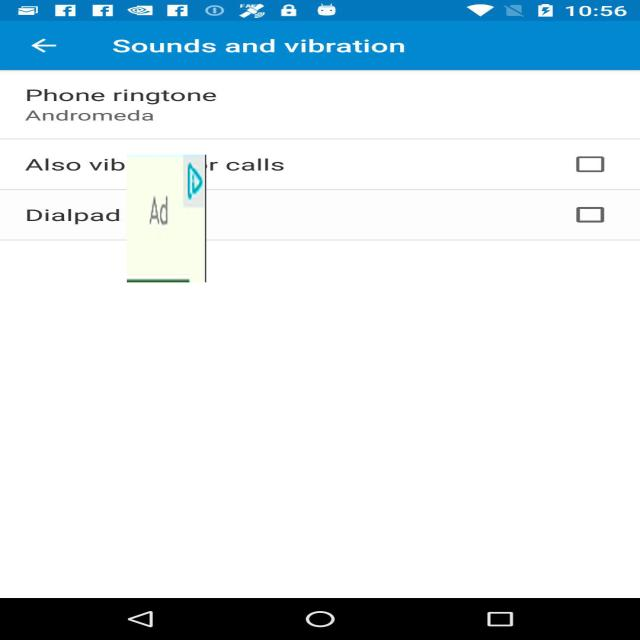sneaking: (127, 155, 206, 282)
